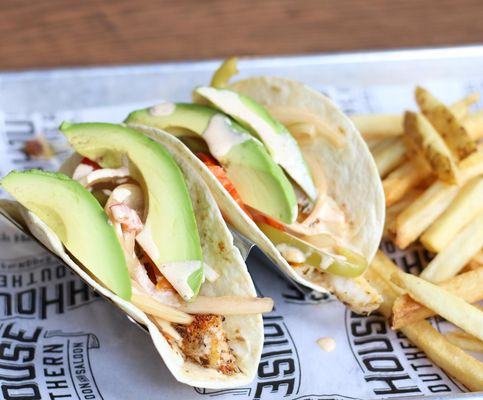soup: (126, 73, 387, 318)
